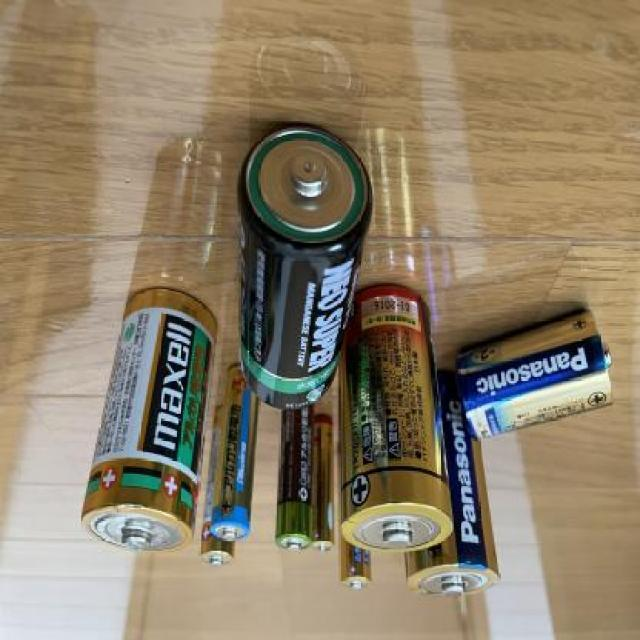hazardous waste: (231, 126, 374, 409), (77, 283, 217, 552), (330, 280, 456, 554), (402, 364, 498, 604), (450, 308, 616, 442), (269, 392, 317, 556), (222, 364, 264, 544), (198, 406, 238, 568), (334, 437, 374, 591), (308, 412, 337, 558)
